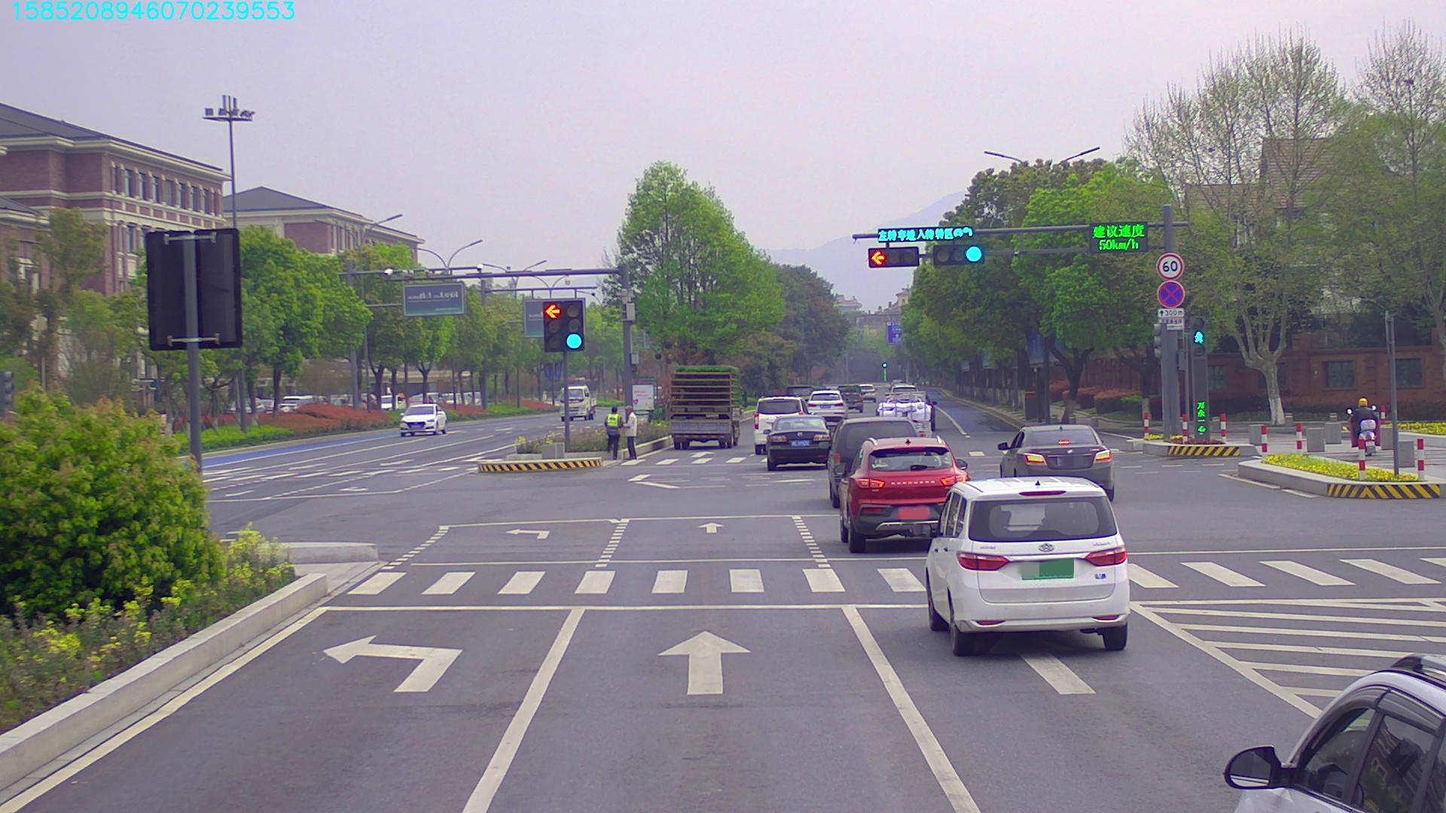green: (932, 245, 985, 264)
red: (866, 246, 923, 271)
wait_on: (873, 228, 977, 244)
